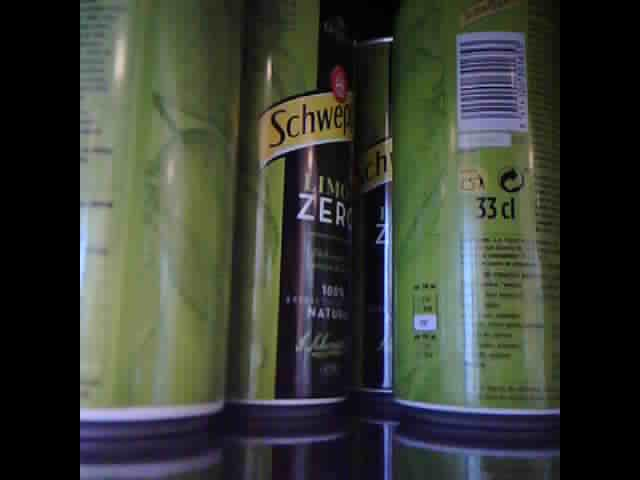schweppes: (392, 2, 560, 426), (78, 1, 241, 436), (224, 3, 359, 415), (351, 14, 397, 409)
